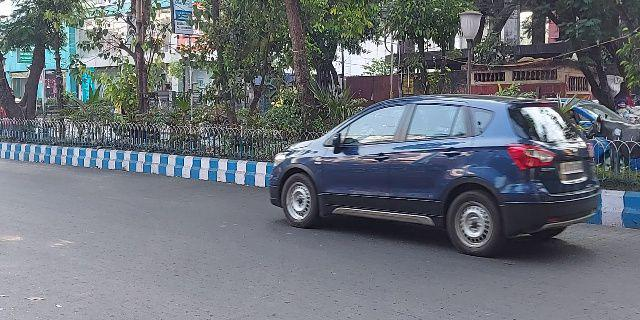Car: (266, 97, 605, 257)
